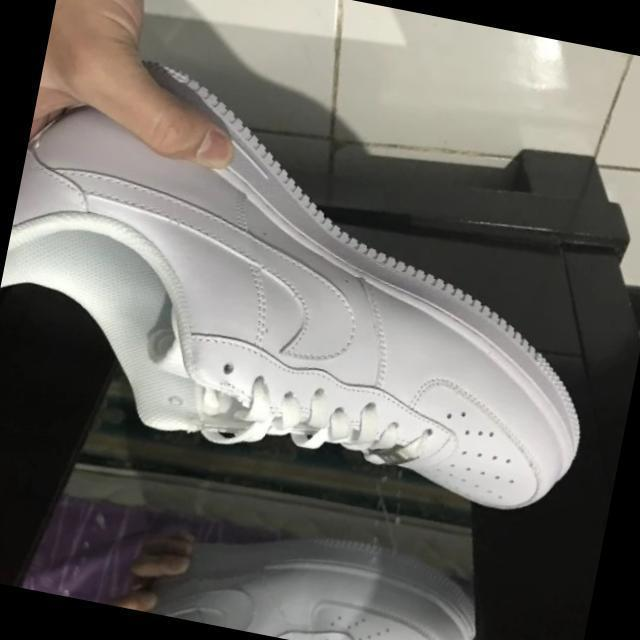nike original air force: (0, 40, 636, 525)
